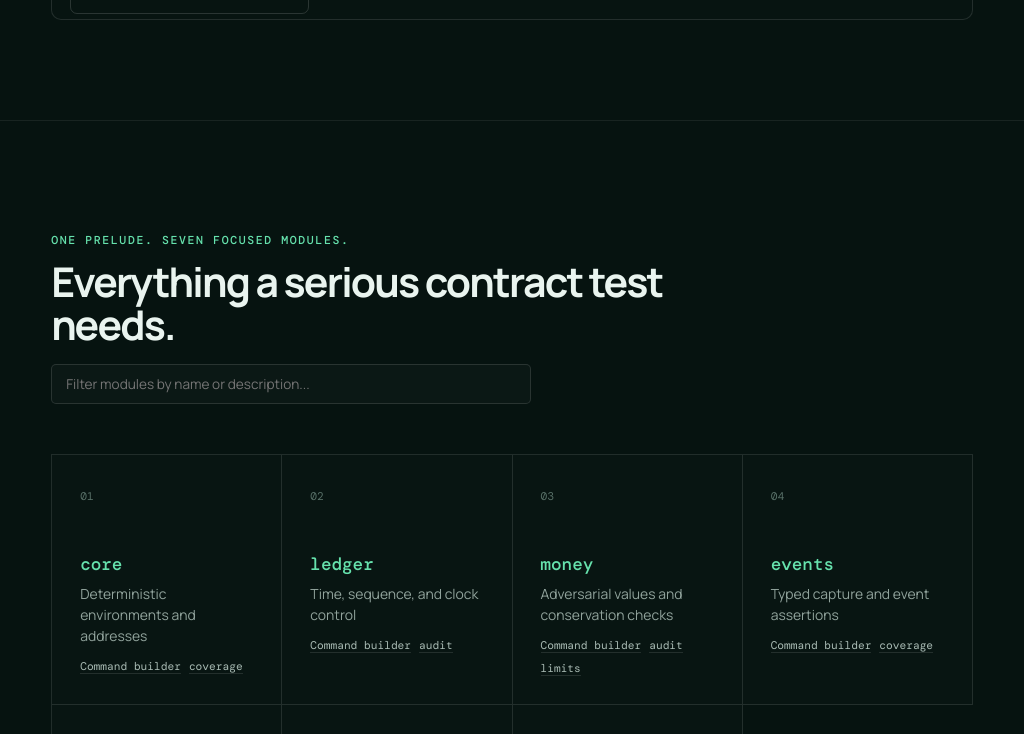
Module filter and empty-state layout (#188) › clears the filter using the Clear button
(page scrolled)
Type "events" into the search field labelled "Filter modules" at (291, 384), box top-left (51, 364), bottom-right (531, 404)
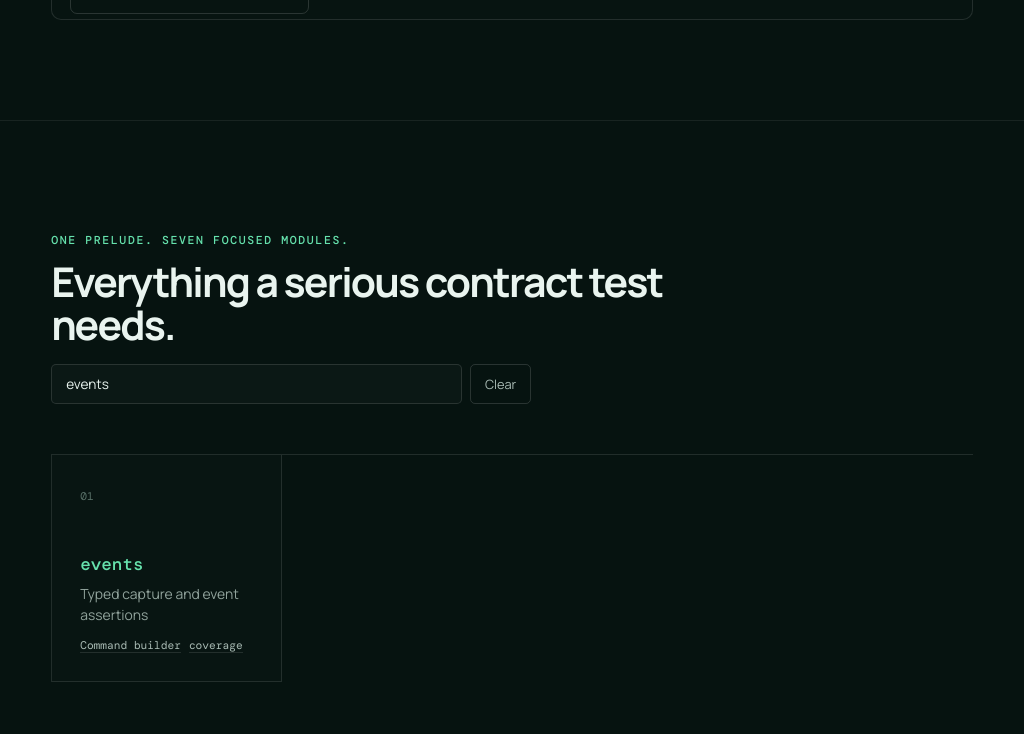
Expected: the heading "events" is shown, top-left (80, 553), bottom-right (144, 575)
Click the button with aria-label "Clear module filter" at (501, 384), box top-left (470, 364), bottom-right (531, 404)
(page scrolled)
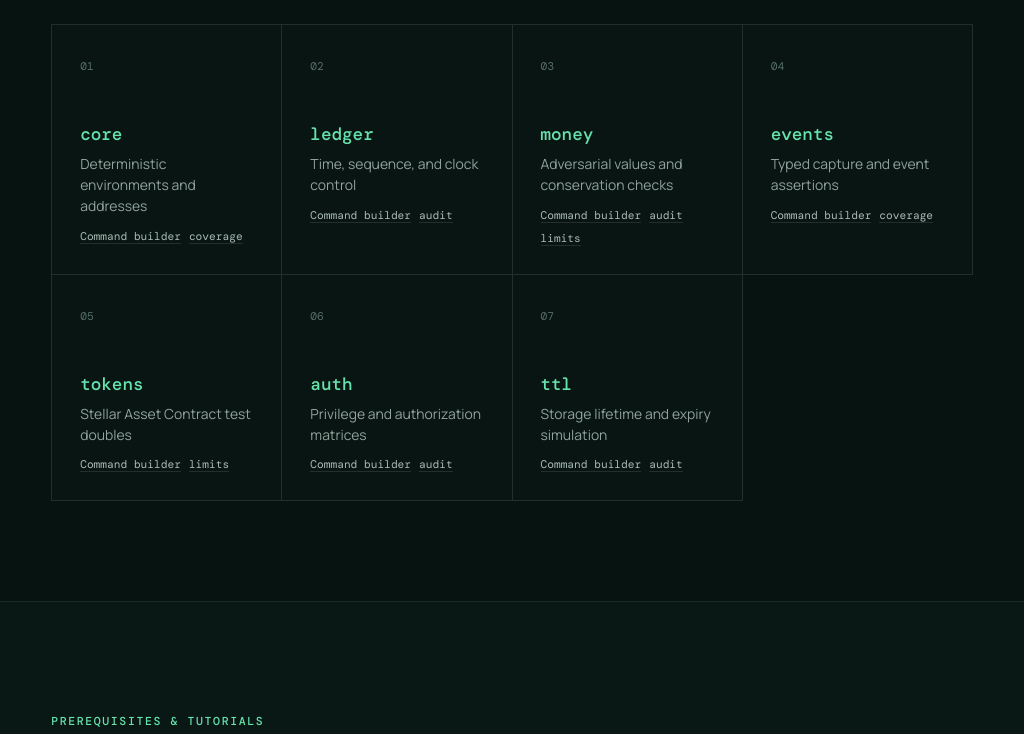
Expected: the heading "ttl" is shown, top-left (540, 373), bottom-right (572, 395)
